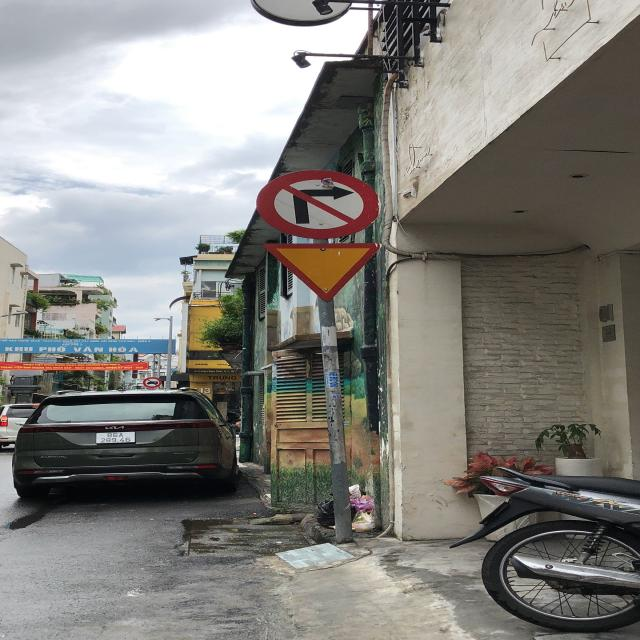Bien bao cam re phai: (255, 167, 374, 234)
Bien bao giao nhau voi duong uu tien: (253, 240, 388, 302)
